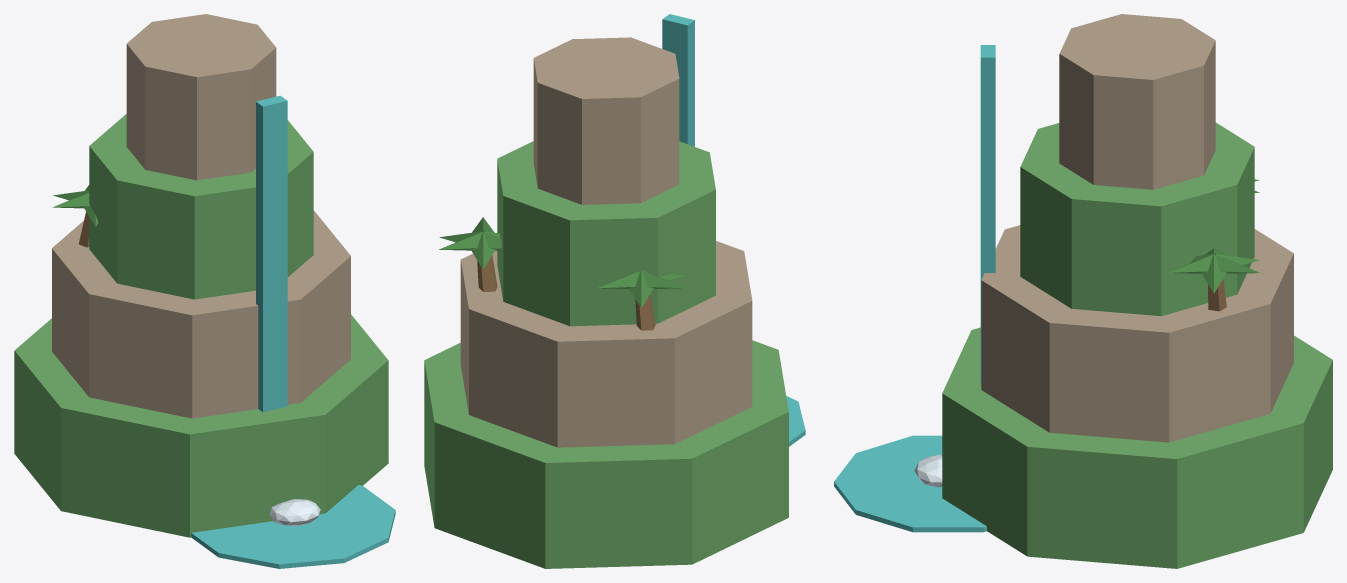
File: jungle-g3.glb
The picture shows the model from 3 angles, left to right: view 1: azimuth 30°, elevation 25°; view 2: azimuth 150°, elevation 25°; view 3: azimuth 270°, elevation 25°; orthographic projection. The views are drawn at different scales.
Visible parts, largest first — view 1: jungle-g3; view 2: jungle-g3; view 3: jungle-g3.
Boxes of the visible parts, bbox=[...] form: jungle-g3: bbox=[14, 14, 395, 568]; jungle-g3: bbox=[424, 14, 805, 568]; jungle-g3: bbox=[834, 14, 1332, 568].
Bounding box in the file's own units: 3.63 × 4.5 × 4.63.
